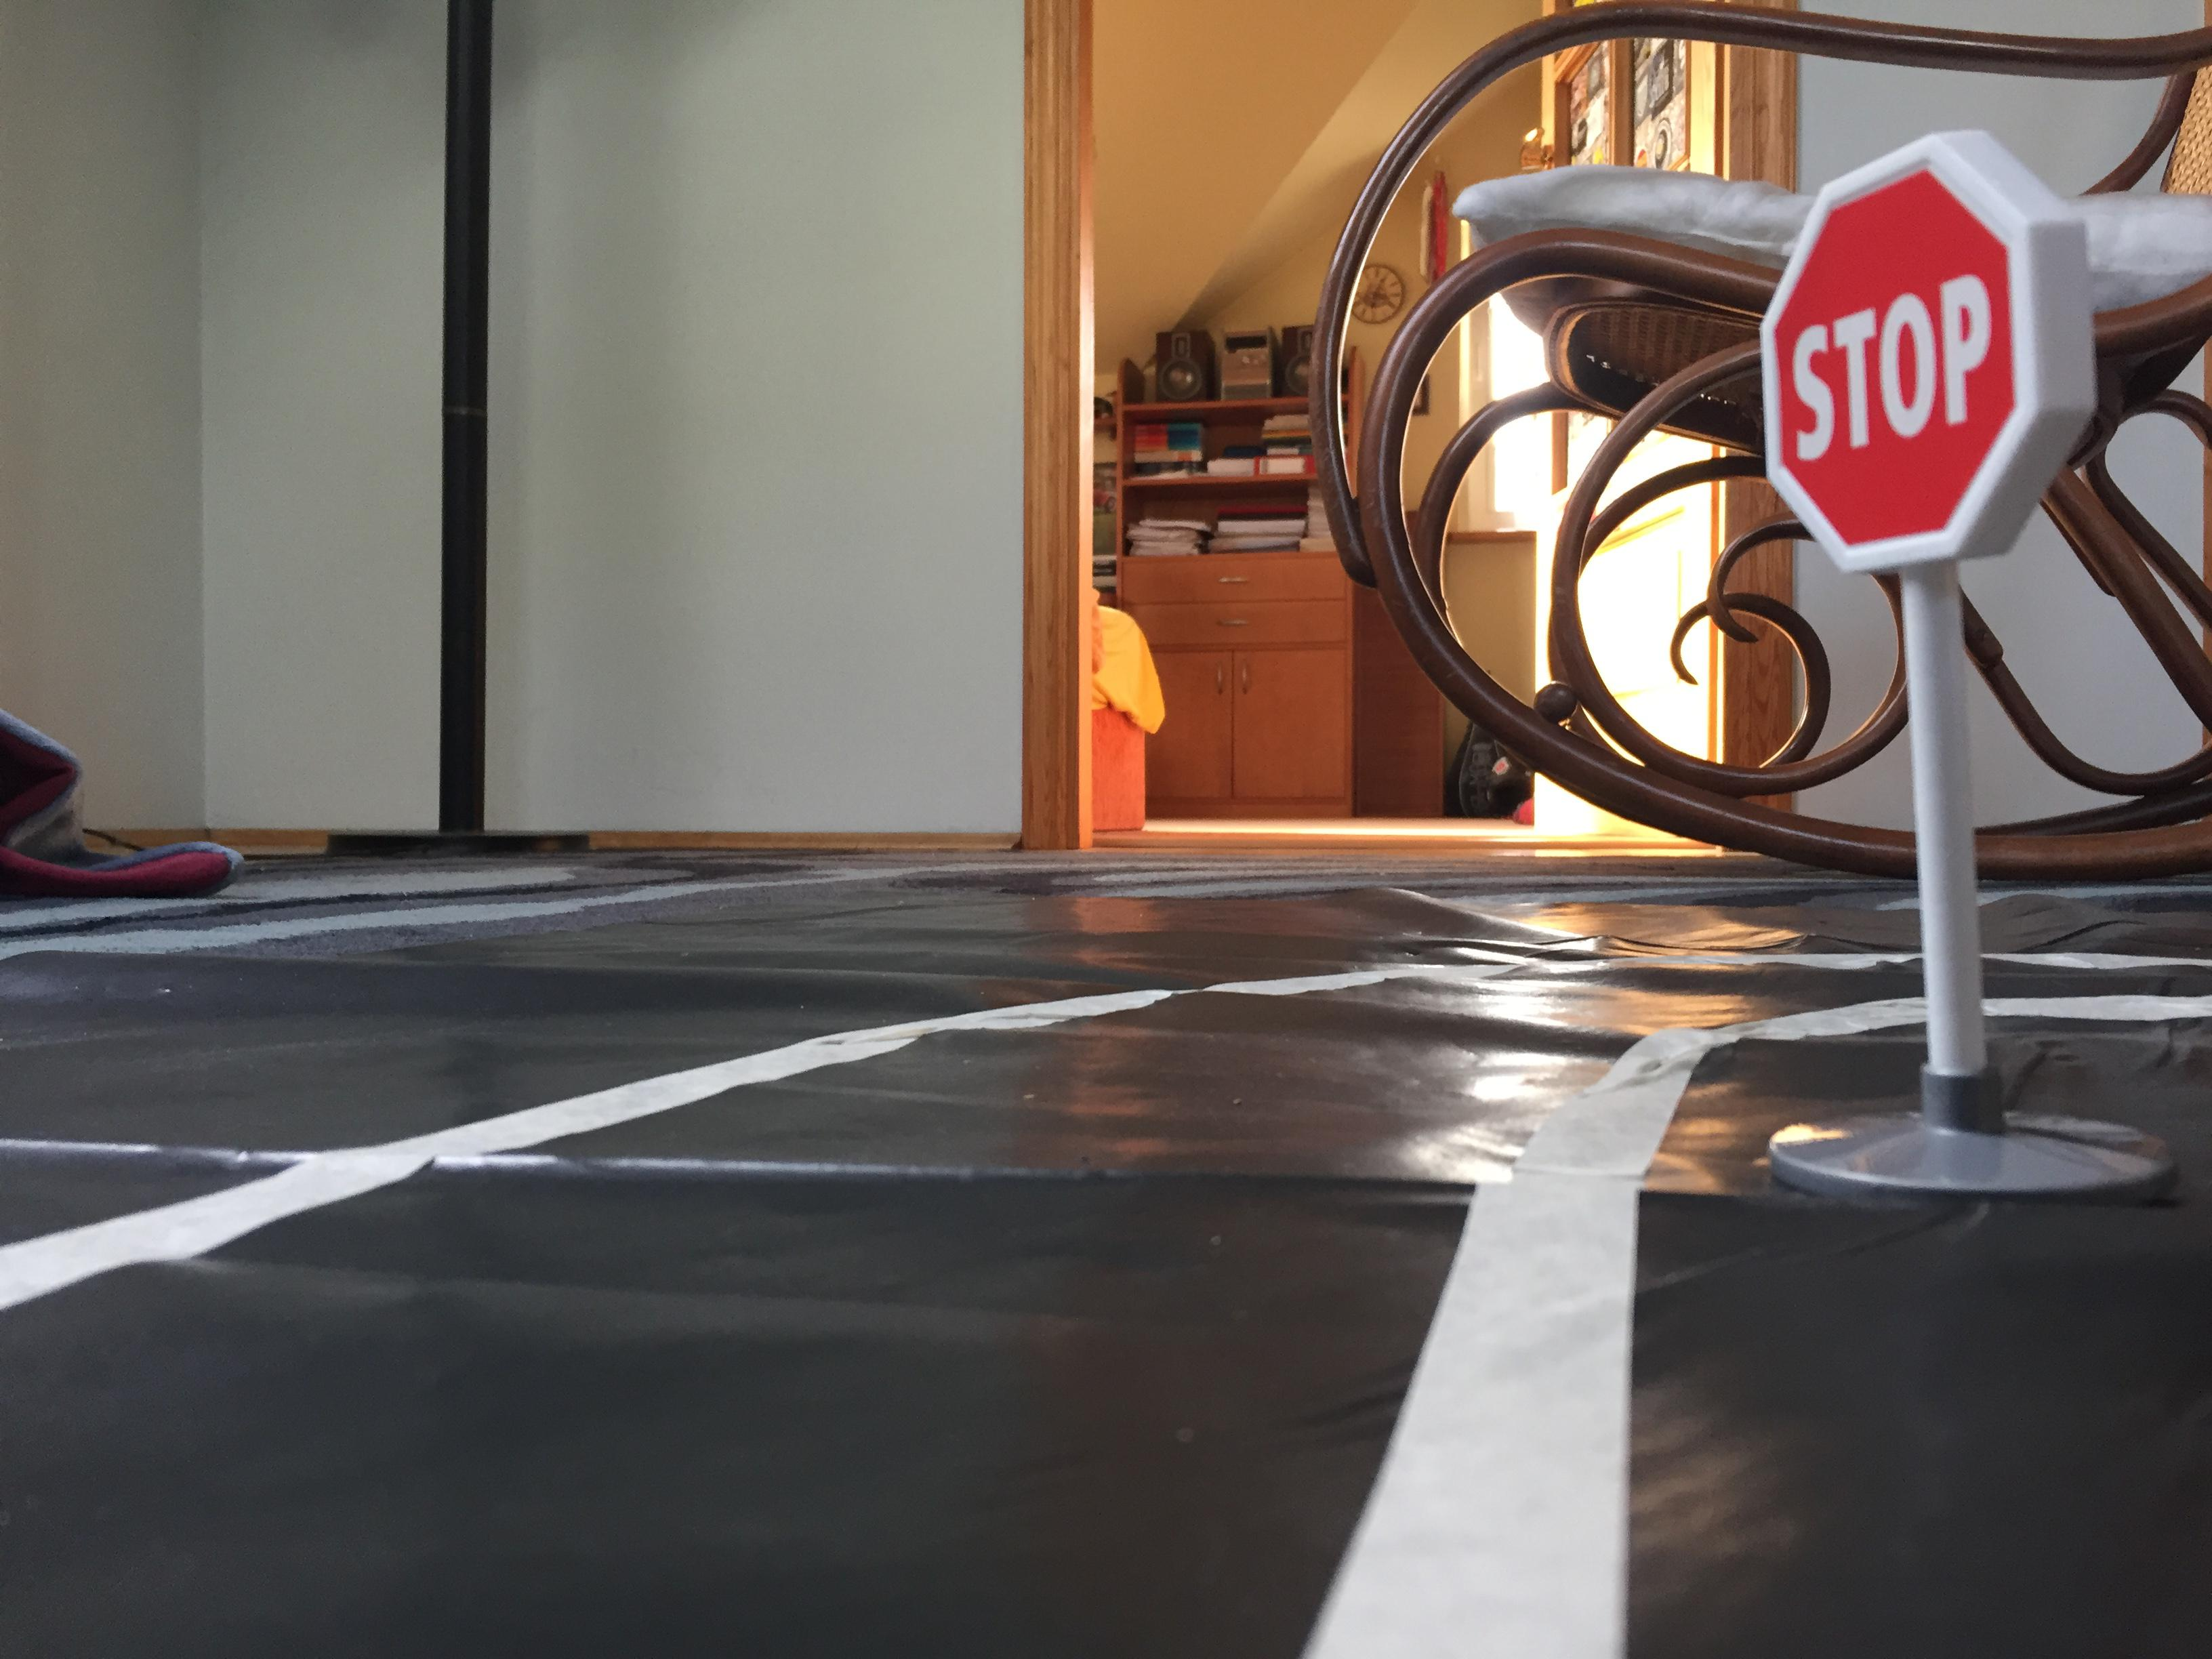stop: (1742, 115, 2116, 598)
